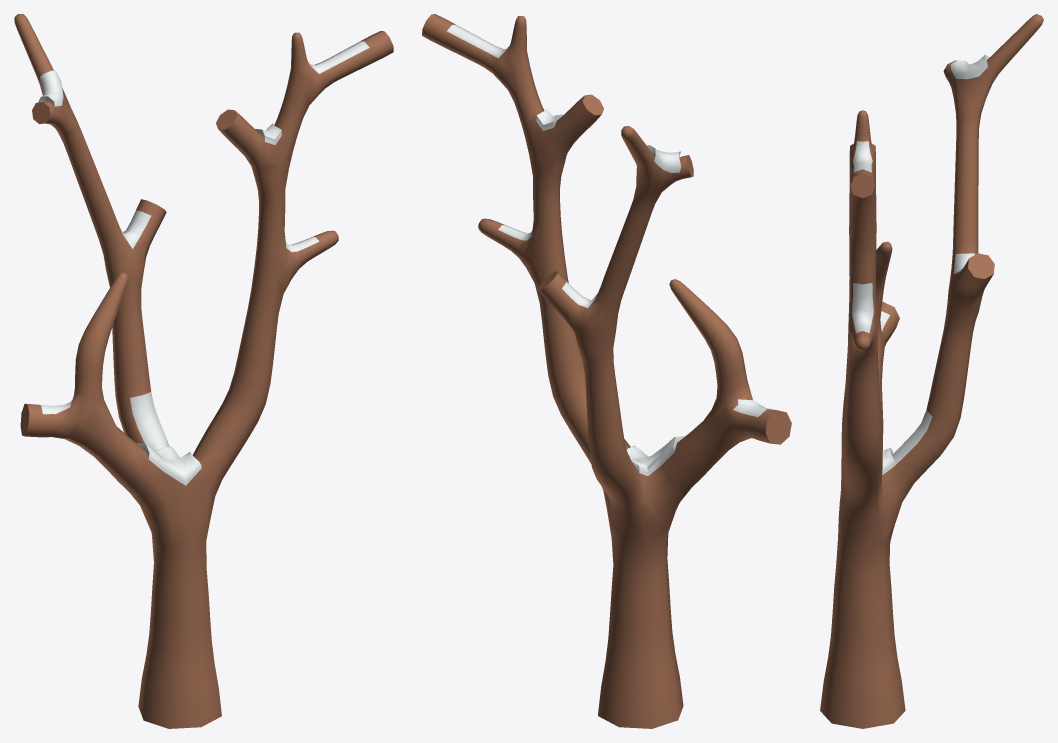
Rendered from Tree near the ladder 1.fbx.
3 views of the same model, side by side, from view 1: azimuth 30°, elevation 25°; view 2: azimuth 150°, elevation 25°; view 3: azimuth 270°, elevation 25° (orthographic). The views are drawn at different scales.
Visible parts, largest first — view 1: Tree near the ladder 1; view 2: Tree near the ladder 1; view 3: Tree near the ladder 1.
Part boxes in pixels (<box>): Tree near the ladder 1: <box>14,14,393,728</box>; Tree near the ladder 1: <box>422,14,791,728</box>; Tree near the ladder 1: <box>820,14,1043,728</box>.
Bounding box in the file's own units: 2463 × 4267 × 1312.
